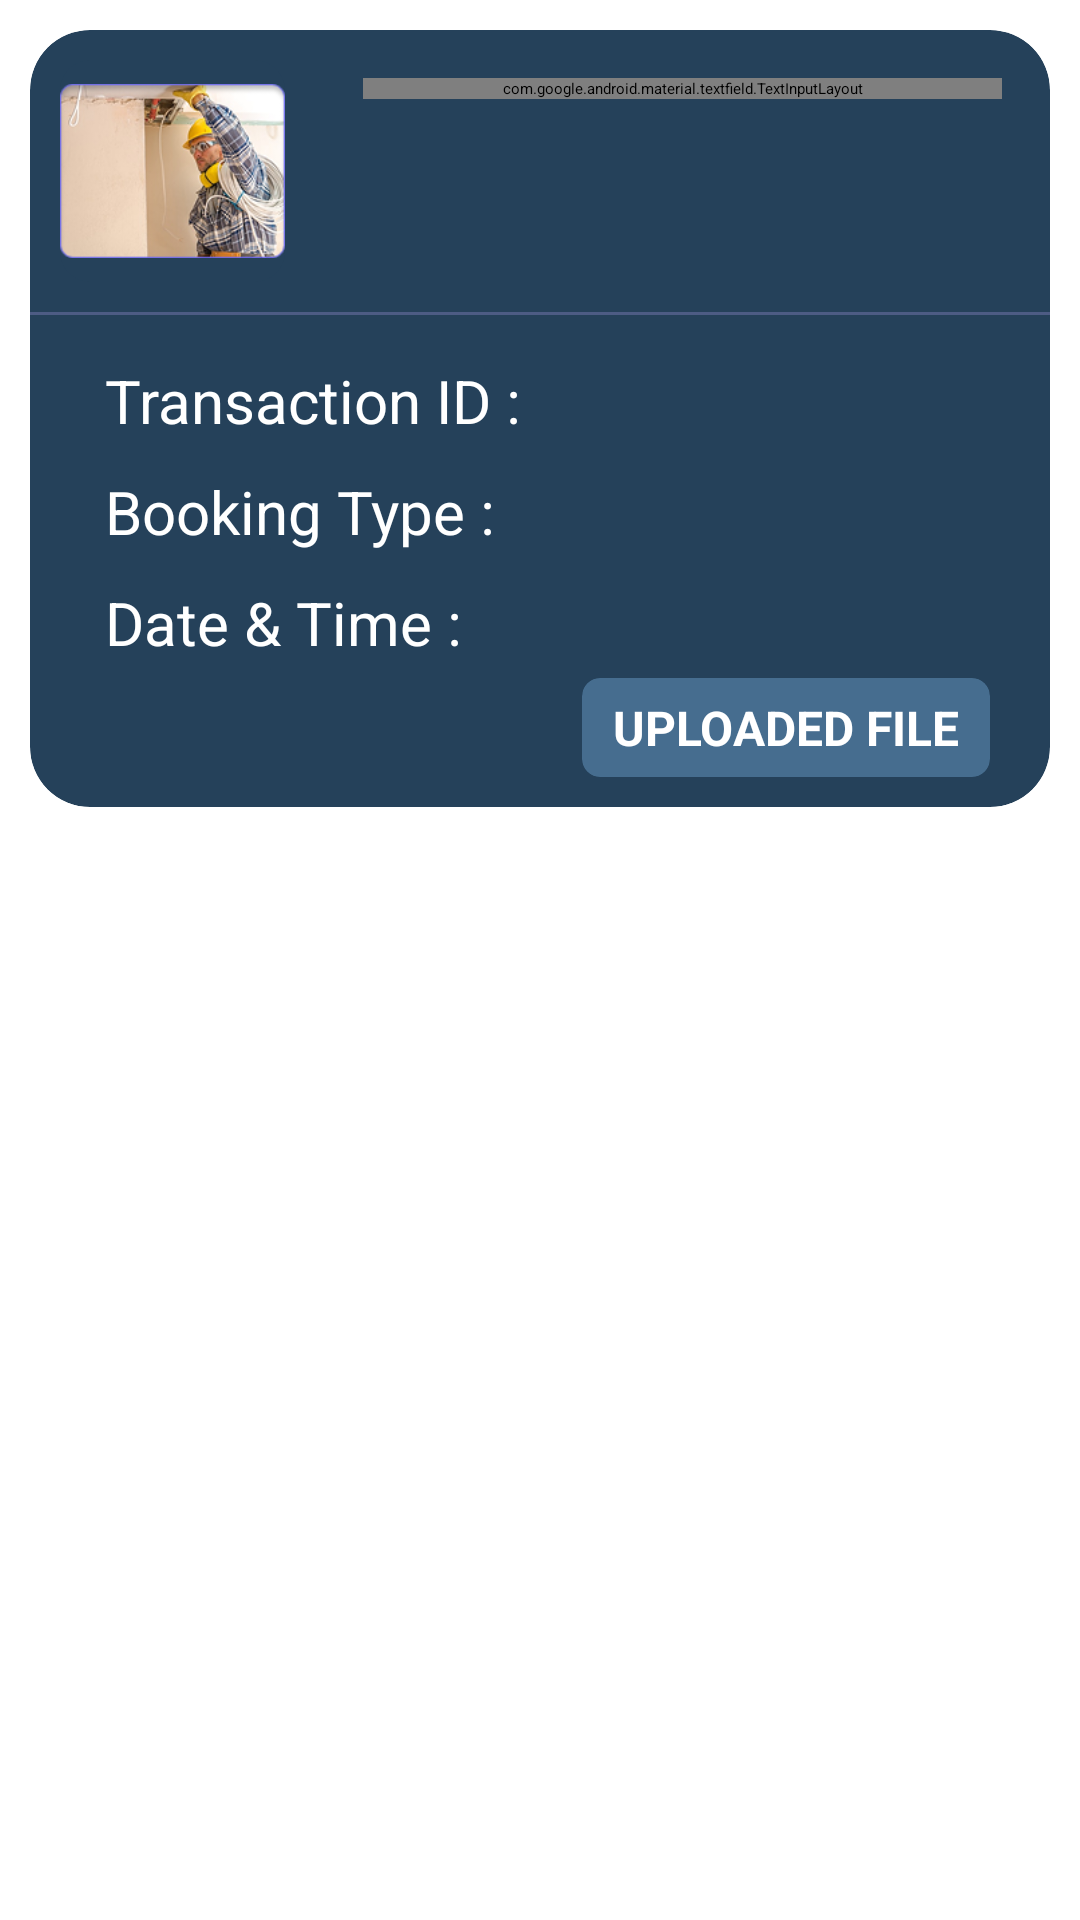

Icon click points for this 1080px×1920px phone screenshot, format point (x, y):
electrician: point (172, 171)
